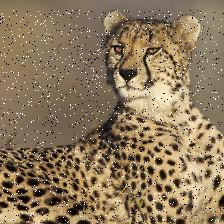Cheetha: (0, 10, 224, 224)
